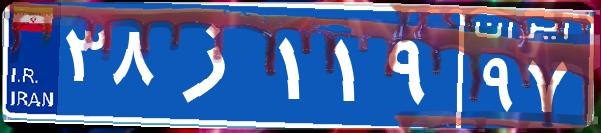1: (273, 28, 330, 110), (330, 28, 385, 110)
3: (57, 26, 110, 107)
7: (525, 38, 570, 115)
8: (110, 28, 158, 105)
9: (385, 28, 445, 110), (475, 38, 525, 113)
ز: (158, 15, 273, 115)
